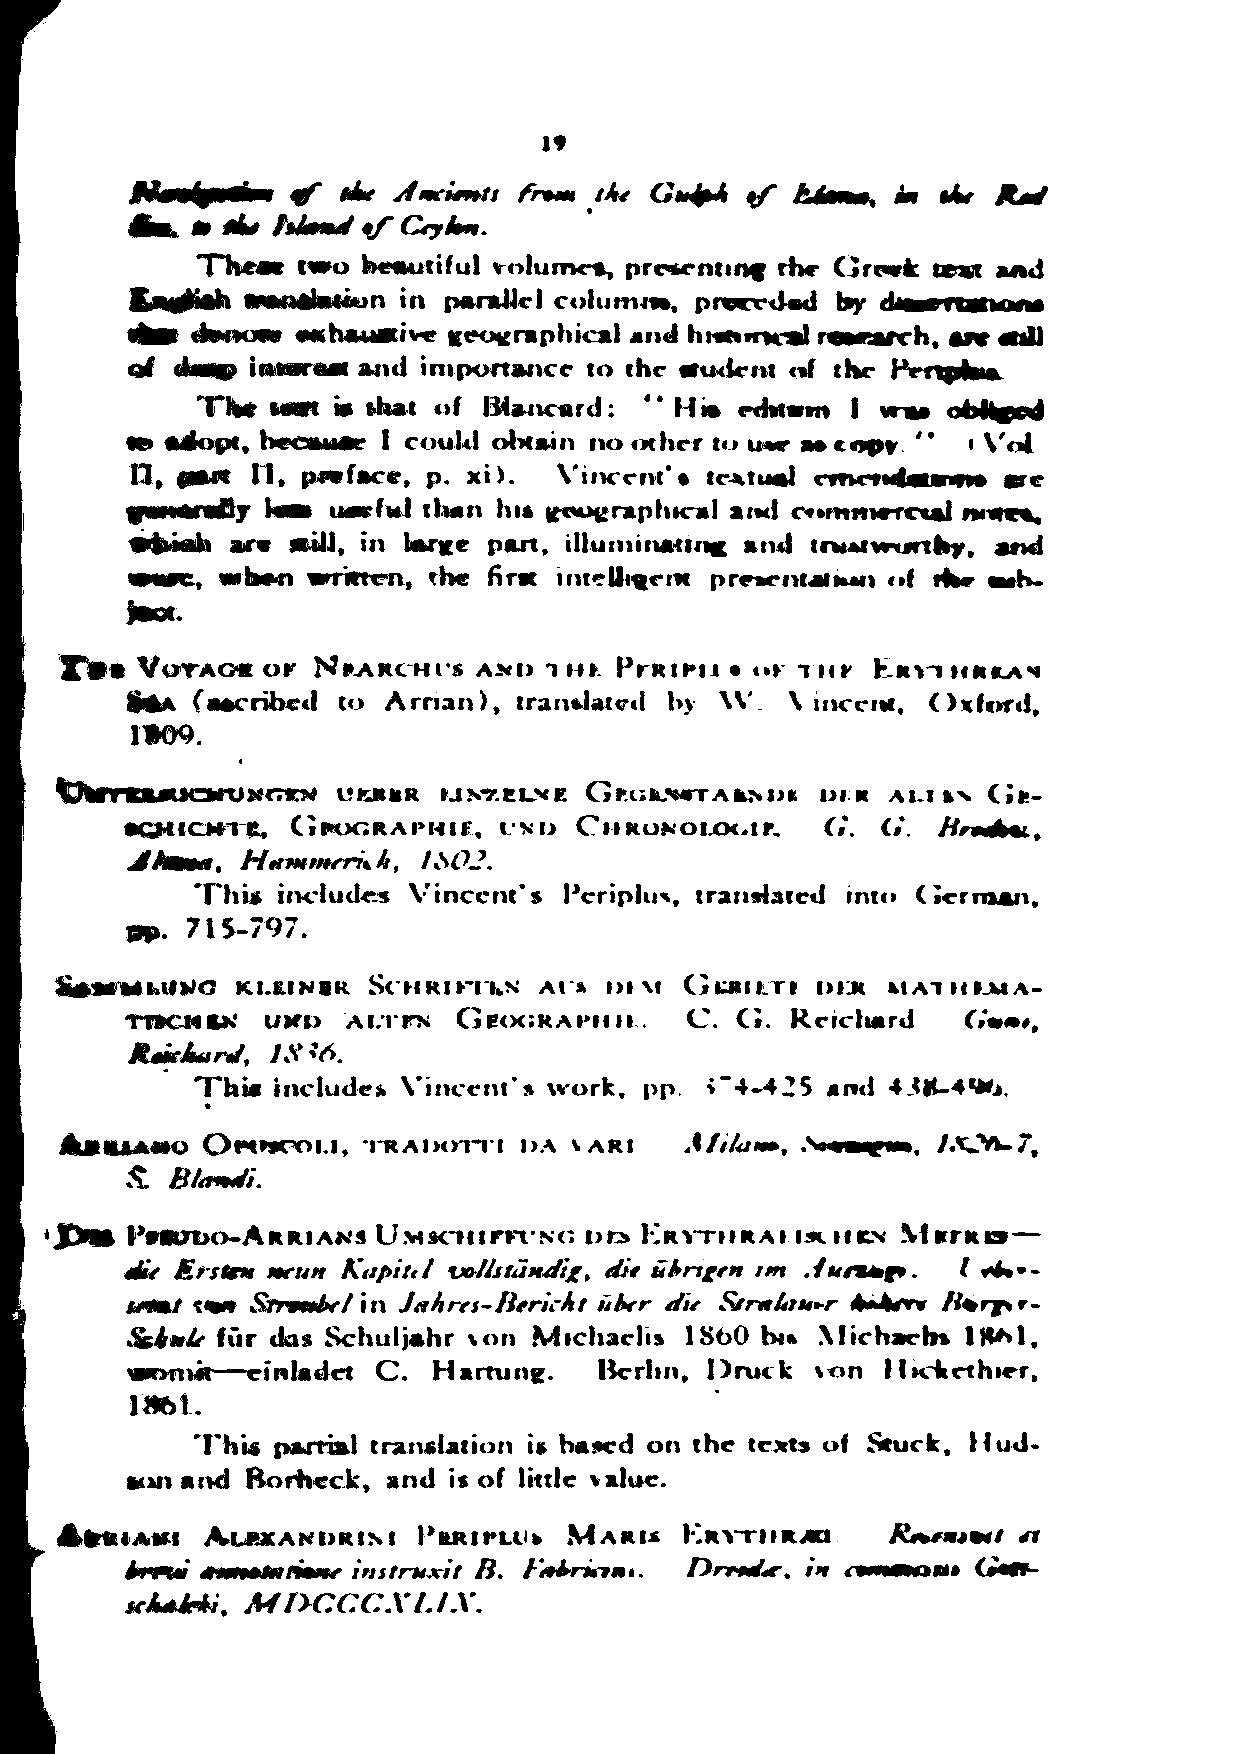content: (50, 176, 1053, 1627)
content_pagenumber: (530, 123, 576, 162)
